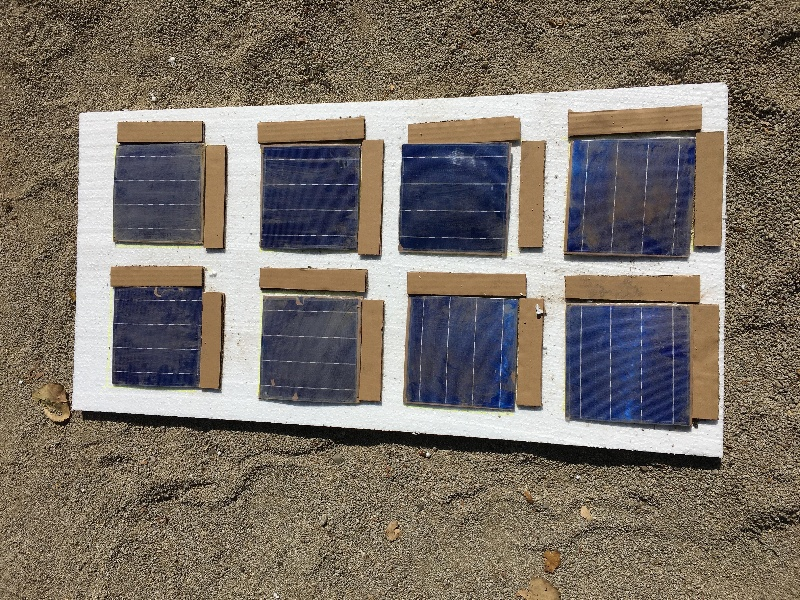clean: (557, 299, 689, 428), (398, 138, 513, 258)
dirty: (564, 133, 696, 259), (256, 292, 365, 403), (110, 148, 203, 239)
semi: (402, 291, 524, 414), (255, 142, 362, 251), (111, 286, 204, 388)
